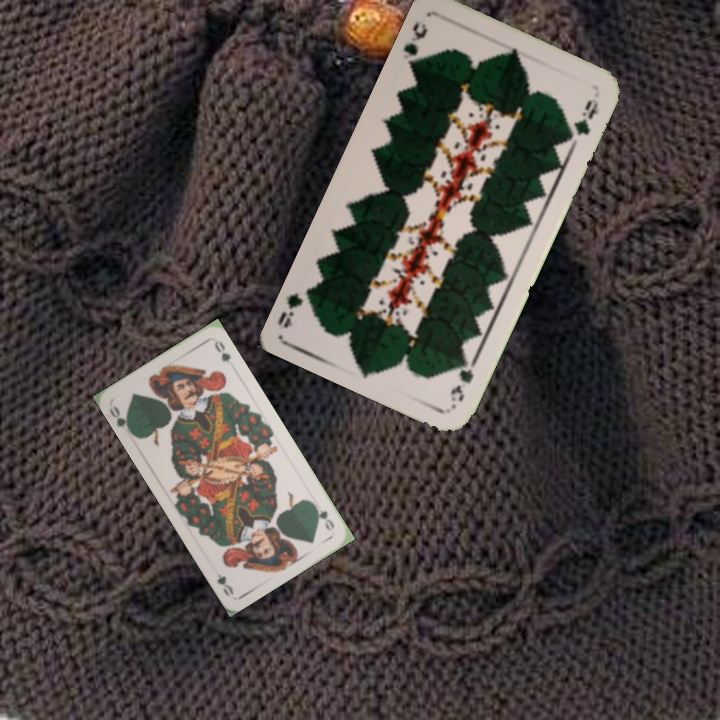G9: (399, 17, 430, 71), (446, 354, 476, 404)
GO: (105, 401, 135, 437), (309, 499, 337, 534)
